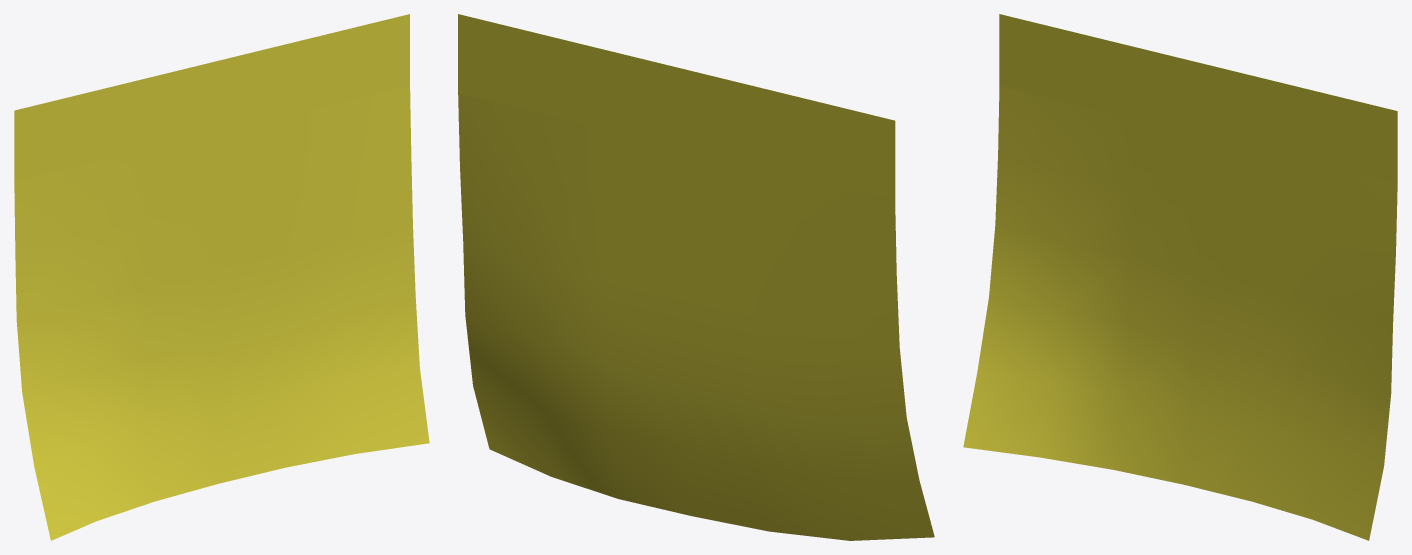
The model's file is idNote.fbx.
The picture shows the model from 3 angles, left to right: view 1: azimuth 30°, elevation 25°; view 2: azimuth 150°, elevation 25°; view 3: azimuth 330°, elevation 25°; orthographic projection. The views are drawn at different scales.
Visible parts, largest first — view 1: idNote; view 2: idNote; view 3: idNote.
Part boxes in pixels (bbox=[...]): idNote: bbox=[14, 14, 429, 540]; idNote: bbox=[458, 14, 934, 540]; idNote: bbox=[963, 14, 1397, 540].
Bounding box in the file's own units: 0.0764 × 0.0761 × 0.0121.
